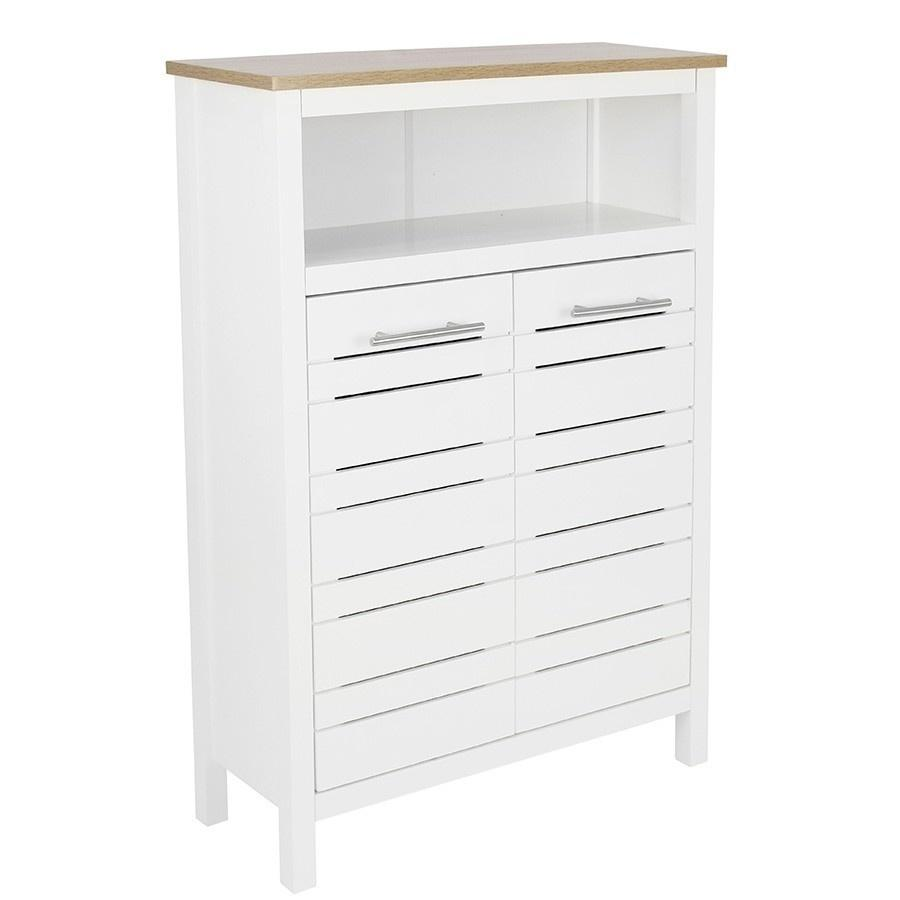cabinet_door: (307, 281, 520, 759), (519, 265, 689, 703)
handle: (349, 317, 491, 363), (544, 288, 687, 323)
